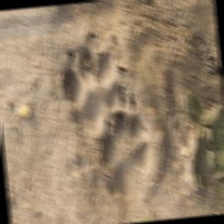fox: (87, 81, 163, 200)
